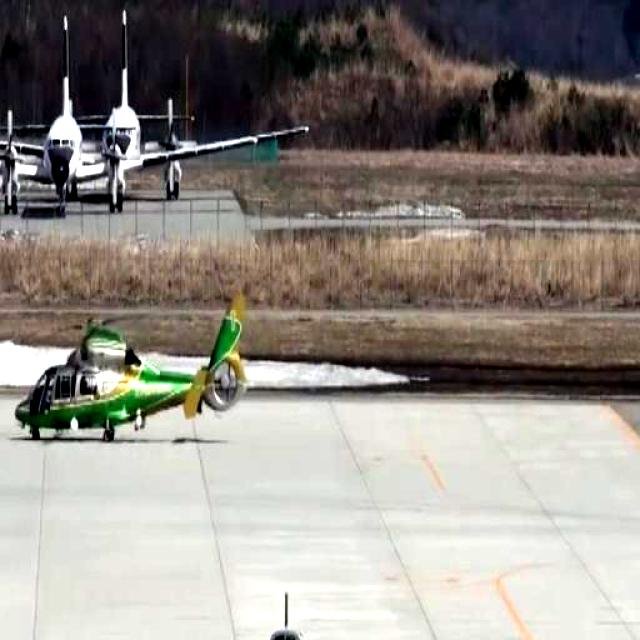drone: (14, 306, 251, 449)
